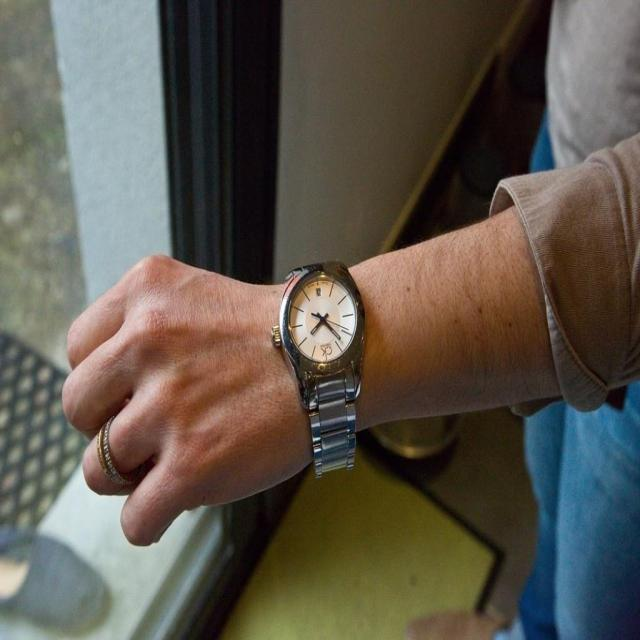Wrist watch: (271, 261, 366, 479)
